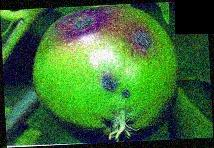rotten apple: (31, 5, 181, 141)
